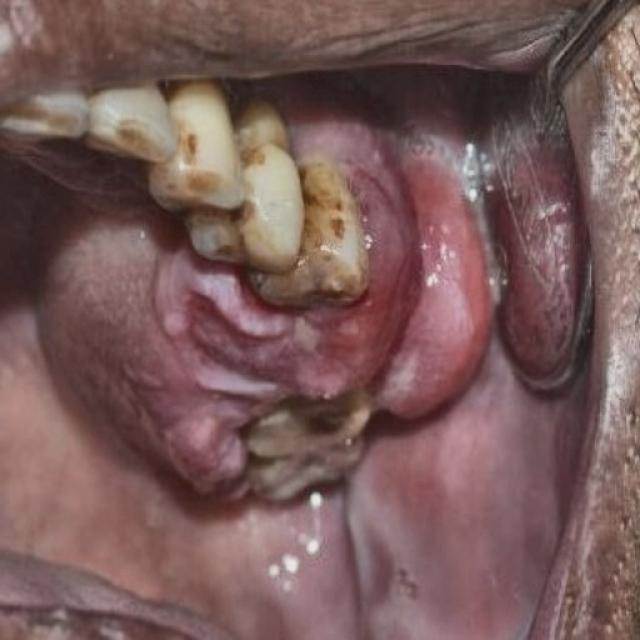cancer-detection: (59, 151, 502, 505)
processing_area: (0, 130, 576, 637)
